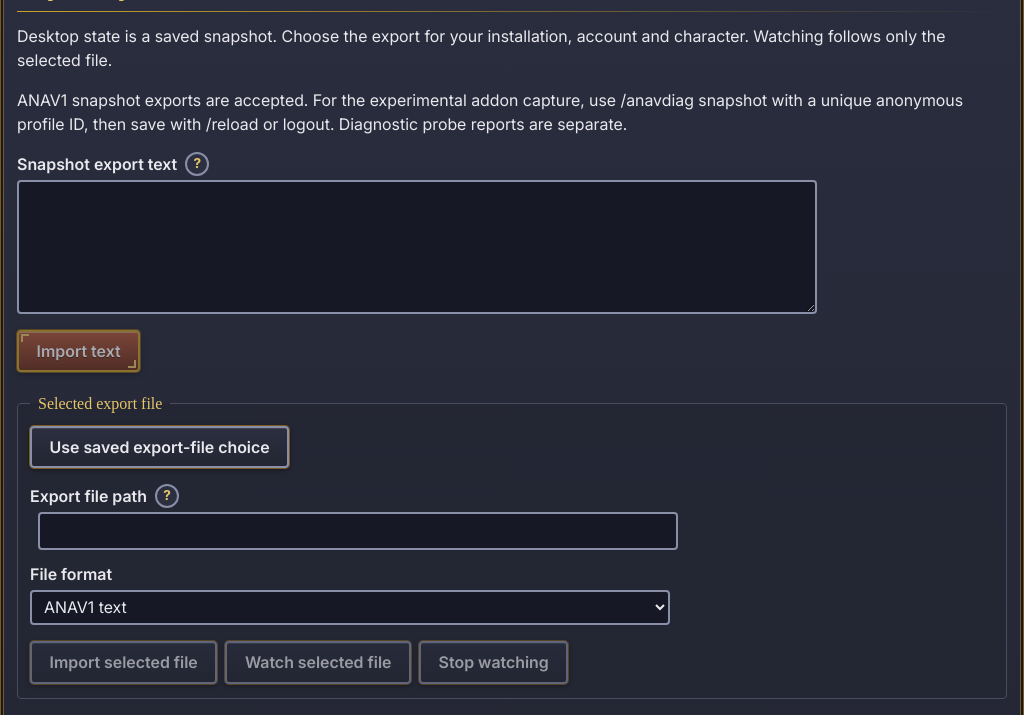
saved export choice is fetched explicitly and applies inputs without file side effects
The image size is (1024, 715).
Click the button "Use saved export-file choice" at (160, 447), box 30,426 -> 289,468
(page scrolled)
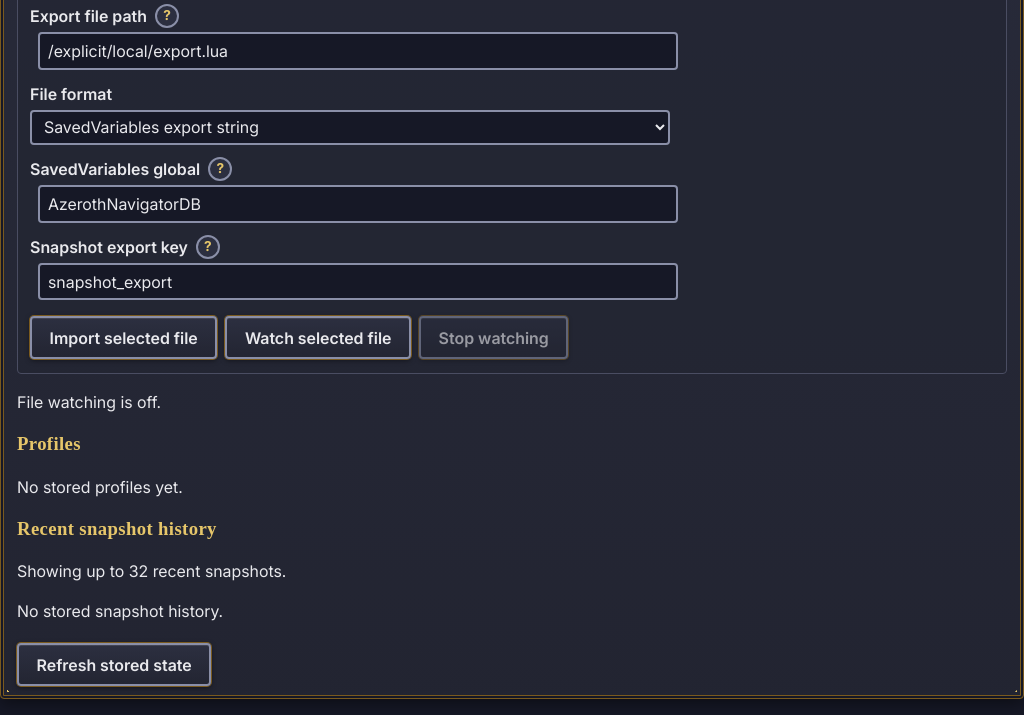
Check: the field showing "/explicit/local/export.lua" is shown, box 38,32 -> 678,70
Check: the field labelled "SavedVariables global" holds "AzerothNavigatorDB", box 38,185 -> 678,223
Check: the field labelled "Snapshot export key" holds "snapshot_export", box 38,263 -> 678,300
